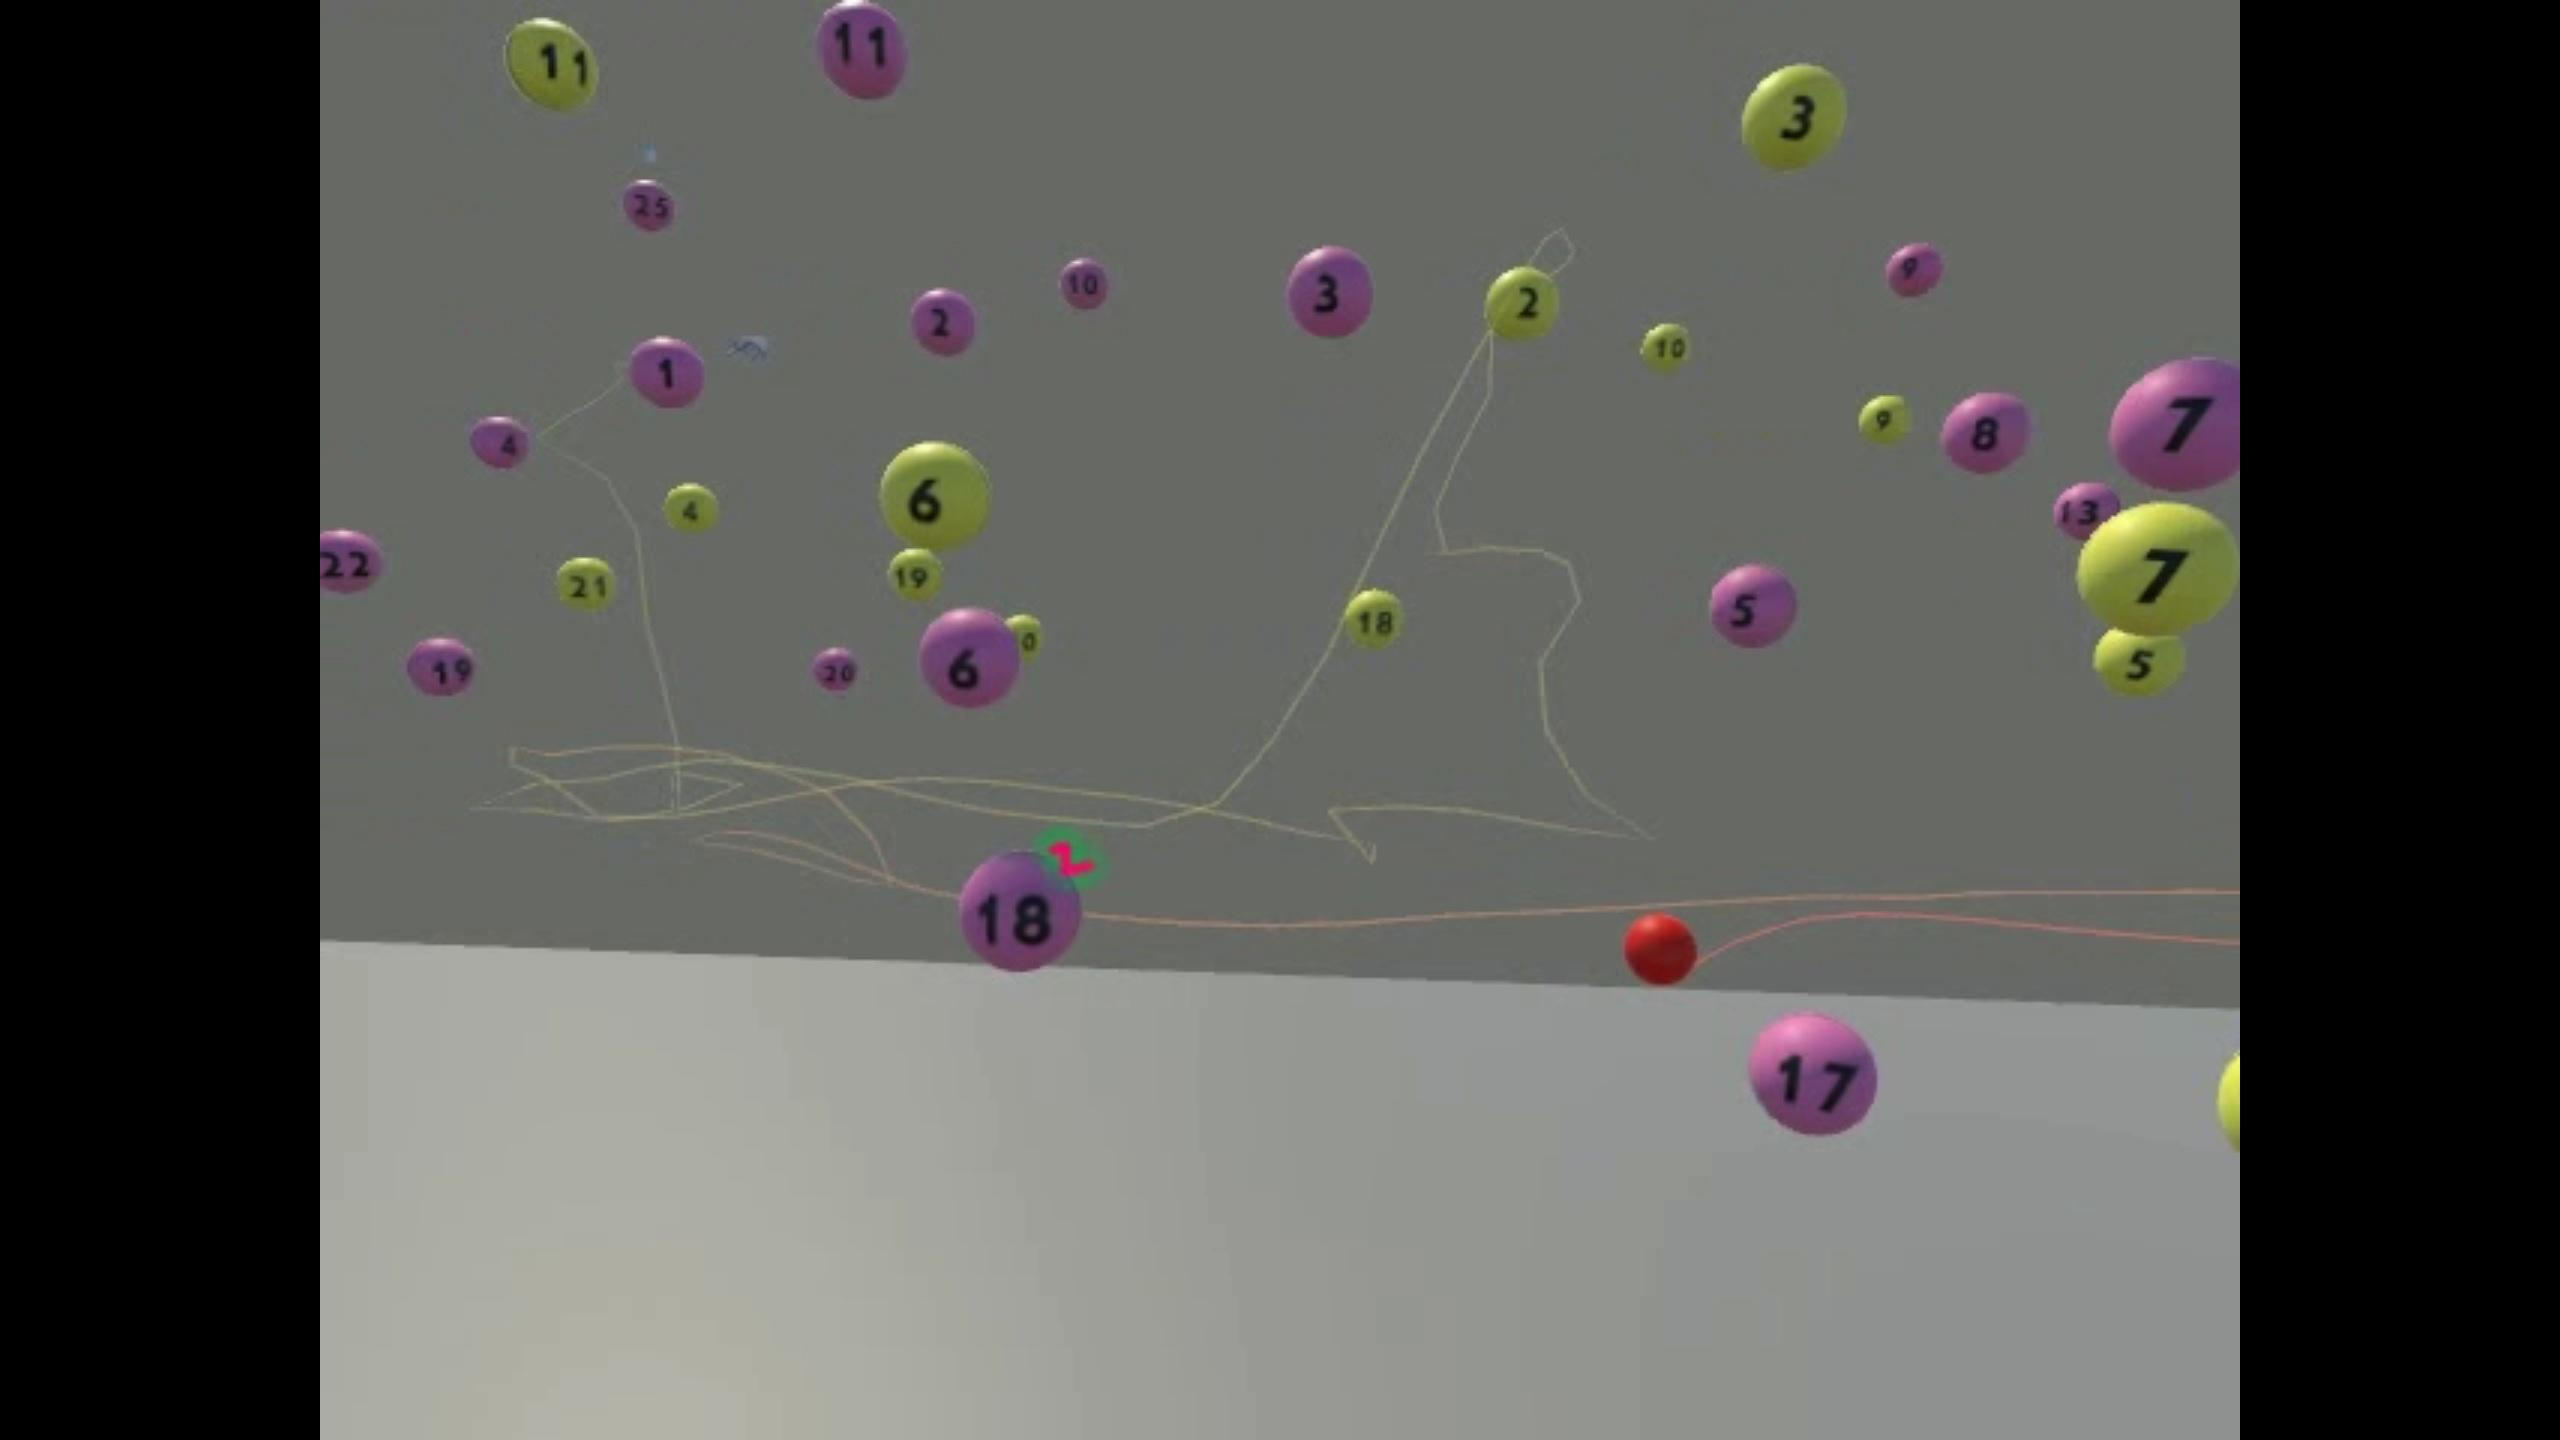ball_01_pink: (629, 339, 705, 406)
ball_02_pink: (913, 290, 974, 352)
ball_02_yellow: (1487, 267, 1558, 338)
ball_03_pink: (1291, 244, 1370, 338)
ball_03_yellow: (1744, 63, 1850, 167)
ball_04_pink: (471, 417, 531, 469)
ball_04_yellow: (666, 485, 723, 535)
ball_05_pink: (1711, 564, 1795, 647)
ball_05_yellow: (2096, 631, 2187, 695)
ball_06_pink: (921, 608, 1016, 709)
ball_06_yellow: (881, 441, 986, 549)
ball_07_pink: (2112, 357, 2244, 491)
ball_07_yellow: (2078, 501, 2240, 633)
ball_08_pink: (1939, 392, 2033, 473)
ball_09_pink: (1887, 243, 1943, 294)
ball_09_yellow: (1862, 396, 1911, 445)
ball_10_pink: (1058, 258, 1111, 308)
ball_10_yellow: (1642, 324, 1690, 369)
ball_11_pink: (818, 2, 905, 100)
ball_11_yellow: (505, 18, 598, 107)
ball_13_pink: (2055, 480, 2115, 538)
ball_17_pink: (1751, 1015, 1878, 1134)
ball_18_pink: (964, 855, 1080, 969)
ball_18_yellow: (1347, 591, 1403, 649)
ball_19_pink: (411, 638, 475, 695)
ball_19_yellow: (884, 550, 942, 601)
ball_20_pink: (816, 647, 856, 691)
ball_21_yellow: (556, 559, 615, 608)
ball_22_pink: (322, 533, 385, 594)
ball_25_pink: (624, 181, 677, 232)
ball_unknown: (2215, 1046, 2244, 1145), (1011, 610, 1041, 659)
user_cursor: (1626, 913, 1695, 985)
